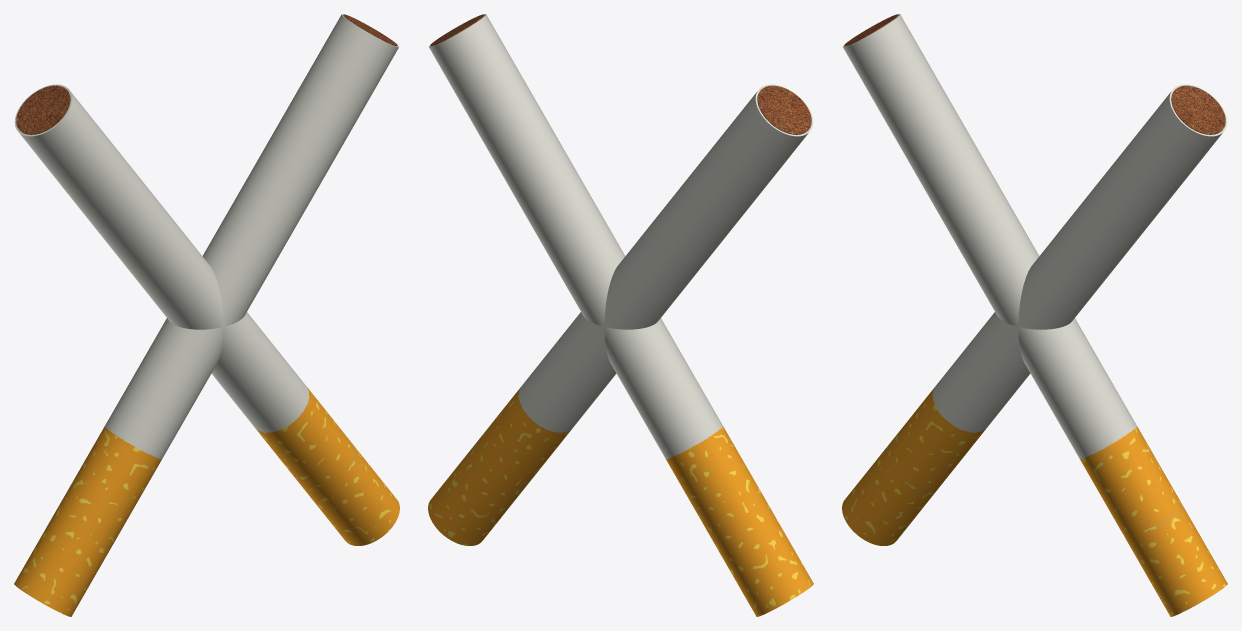
Rendered from pet.glb.
3 views of the same model, side by side, from view 1: azimuth 30°, elevation 25°; view 2: azimuth 150°, elevation 25°; view 3: azimuth 330°, elevation 25° (orthographic).
Visible parts, largest first — view 1: Cylinder.001, Cylinder.003; view 2: Cylinder.001, Cylinder.003; view 3: Cylinder.003, Cylinder.001.
Boxes of the visible parts, bbox=[...] form: Cylinder.001: bbox=[14, 14, 398, 616]; Cylinder.003: bbox=[14, 84, 399, 545]; Cylinder.001: bbox=[429, 14, 813, 616]; Cylinder.003: bbox=[428, 84, 813, 545]; Cylinder.003: bbox=[843, 14, 1227, 616]; Cylinder.001: bbox=[842, 84, 1227, 545].
Bounding box in the file's own units: 2.84 × 3.79 × 0.4346.
Materials: 3 (2 with a texture image).
